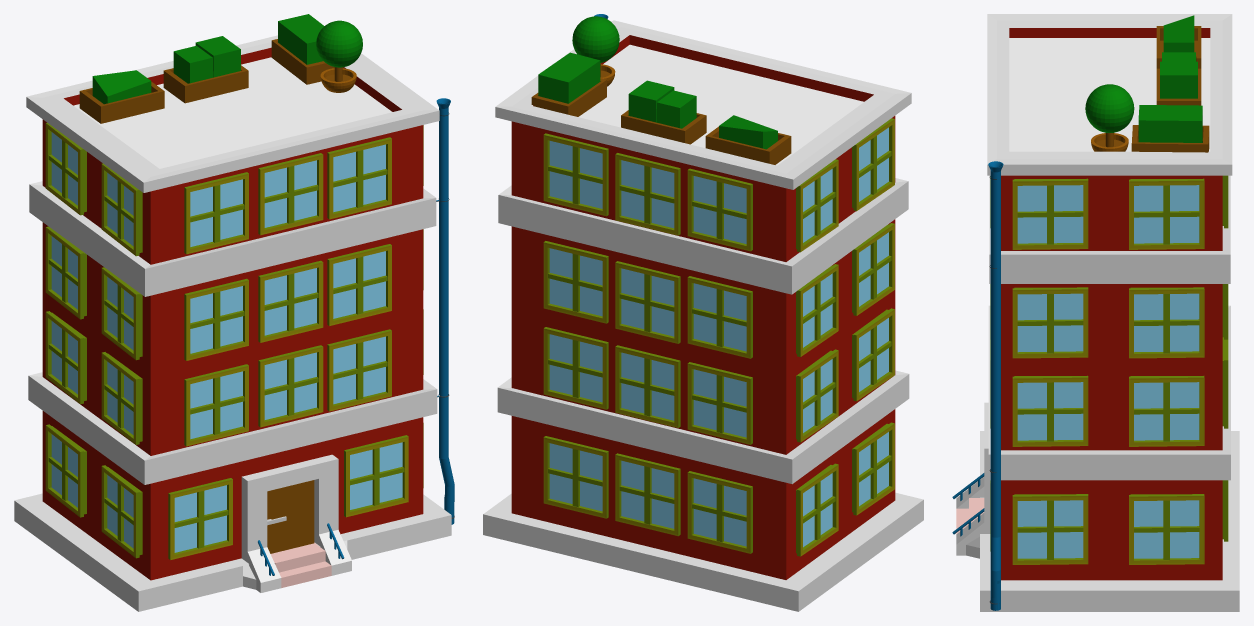
File: Edificio3.fbx
3 views of the same model, side by side, from view 1: azimuth 30°, elevation 25°; view 2: azimuth 150°, elevation 25°; view 3: azimuth 270°, elevation 25° (orthographic). The views are drawn at different scales.
Parts seen in each view (by area): view 1: Cube, Cube.042, Cube.041, Cube.043, Cube.009, Cube.004, Cube.006, Cube.011, Cube.005, Cube.008, Cube.007, Cube.010 (+14 smaller); view 2: Cube, Cube.030, Cube.035, Cube.037, Cube.039, Cube.031, Cube.033, Cube.040, Cube.029, Cube.032, Cube.034, Cube.038 (+13 smaller); view 3: Cube, Cube.024, Cube.028, Cube.026, Cube.022, Cube.023, Cube.027, Cube.021, Cube.025, Cylinder, Cube.003, Sphere (+4 smaller).
Part boxes in pixels (x1=…): Cube: x1=14, y1=35, x2=451, y2=611; Cube.042: x1=258, y1=153, x2=323, y2=235; Cube.041: x1=258, y1=260, x2=323, y2=342; Cube.043: x1=258, y1=345, x2=323, y2=427; Cube.009: x1=327, y1=329, x2=391, y2=411; Cube.004: x1=184, y1=172, x2=248, y2=254; Cube.006: x1=184, y1=278, x2=248, y2=360; Cube.011: x1=344, y1=435, x2=408, y2=517; Cube.005: x1=327, y1=137, x2=391, y2=219; Cube.008: x1=184, y1=364, x2=248, y2=446; Cube.007: x1=327, y1=244, x2=391, y2=325; Cube.010: x1=168, y1=478, x2=232, y2=559; Cube: x1=483, y1=20, x2=923, y2=611; Cube.030: x1=543, y1=133, x2=608, y2=216; Cube.035: x1=687, y1=471, x2=752, y2=553; Cube.037: x1=615, y1=453, x2=680, y2=536; Cube.039: x1=615, y1=261, x2=680, y2=343; Cube.031: x1=687, y1=276, x2=752, y2=358; Cube.033: x1=687, y1=362, x2=752, y2=444; Cube.040: x1=615, y1=153, x2=680, y2=235; Cube.029: x1=687, y1=168, x2=752, y2=251; Cube.032: x1=543, y1=241, x2=608, y2=323; Cube.034: x1=543, y1=327, x2=608, y2=409; Cube.038: x1=615, y1=345, x2=680, y2=427; Cube: x1=956, y1=14, x2=1239, y2=611; Cube.024: x1=1012, y1=287, x2=1088, y2=358; Cube.028: x1=1012, y1=494, x2=1088, y2=564; Cube.026: x1=1012, y1=375, x2=1088, y2=446; Cube.022: x1=1012, y1=178, x2=1088, y2=249; Cube.023: x1=1129, y1=287, x2=1204, y2=358; Cube.027: x1=1129, y1=494, x2=1204, y2=564; Cube.021: x1=1129, y1=178, x2=1204, y2=249; Cube.025: x1=1129, y1=376, x2=1204, y2=446; Cylinder: x1=988, y1=161, x2=1003, y2=610; Cube.003: x1=1131, y1=105, x2=1209, y2=152; Sphere: x1=1085, y1=84, x2=1134, y2=151.
Size of the model in its own units: 663 by 940 by 489.
Materials: 1 (1 with a texture image).
